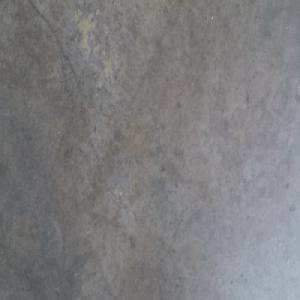Wrench: (166, 294, 174, 299)
